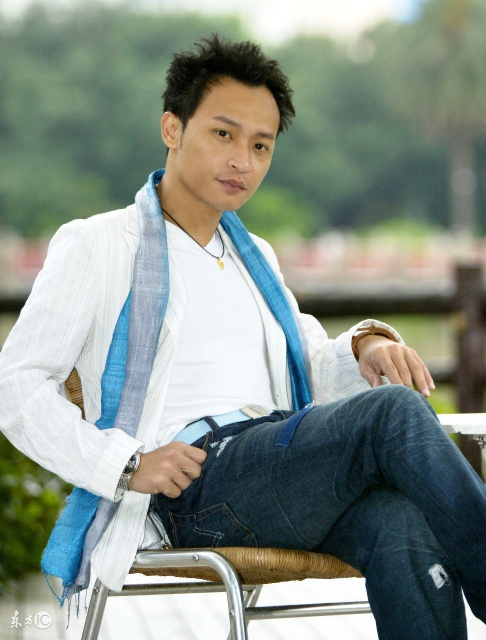male: (131, 25, 305, 226)
